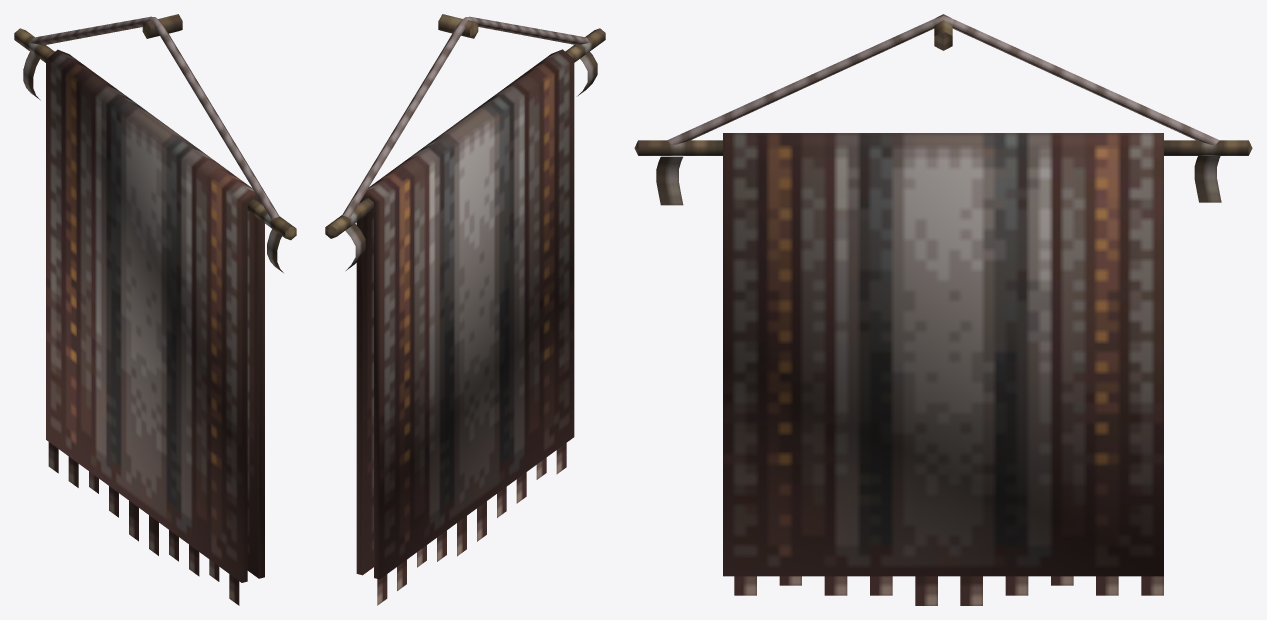
The model's file is EnvObjMD_Spinning_Tapestry_A.FBX.
3 views of the same model, side by side, from view 1: azimuth 30°, elevation 25°; view 2: azimuth 150°, elevation 25°; view 3: azimuth 270°, elevation 25° (orthographic). The views are drawn at different scales.
Visible parts, largest first — view 1: EnvObjMD_Spinning_Tapestry_A; view 2: EnvObjMD_Spinning_Tapestry_A; view 3: EnvObjMD_Spinning_Tapestry_A.
Part boxes in pixels (x1,y1,x2,y2): EnvObjMD_Spinning_Tapestry_A: [14, 14, 296, 605]; EnvObjMD_Spinning_Tapestry_A: [325, 14, 605, 605]; EnvObjMD_Spinning_Tapestry_A: [634, 14, 1252, 605].
Bounding box in the file's own units: 20 × 290 × 273.
